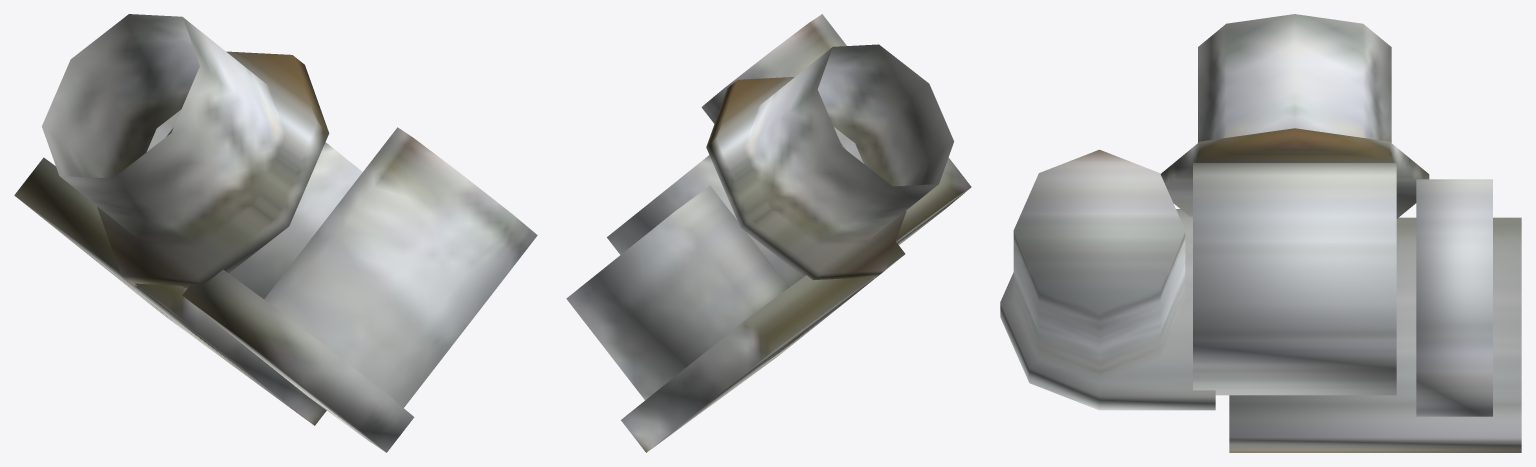
The model's file is dextre_arm_2_shoulder_roll.dae.
3 renders of one model, left to right at view 1: azimuth 30°, elevation 25°; view 2: azimuth 150°, elevation 25°; view 3: azimuth 270°, elevation 25°, orthographic. The views are drawn at different scales.
Visible parts, largest first — view 1: 29 DEXTRE.004; view 2: 29 DEXTRE.004; view 3: 29 DEXTRE.004.
Part boxes in pixels (x1,y1,x2,y2): 29 DEXTRE.004: (14,14,537,452); 29 DEXTRE.004: (566,14,971,452); 29 DEXTRE.004: (1000,14,1521,452).
Bounding box in the file's own units: 0.5525 × 0.7175 × 0.5965.
1 material, 1 textured.
